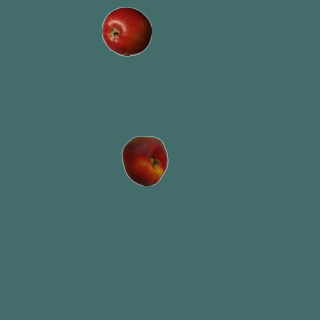Apple Braeburn: (101, 6, 151, 56)
Nectarine Flat: (119, 135, 169, 185)
